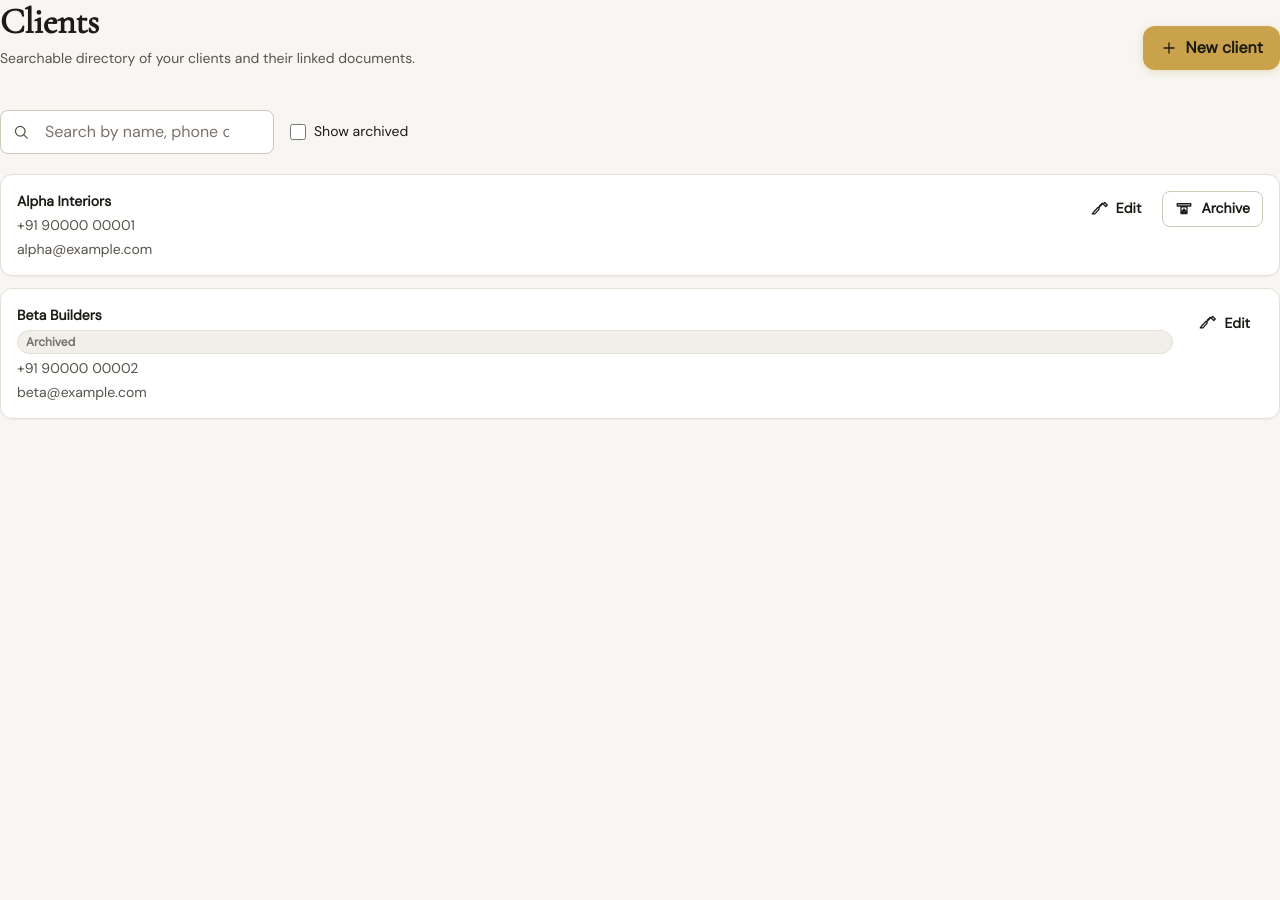
Test: Clients page — row actions › still confirms before archiving
Expected: the link "Alpha Interiors" is shown, left=17, top=192, right=111, bottom=210
Step 1. Click the button "Archive" → (1213, 209), box left=1162, top=191, right=1263, bottom=227
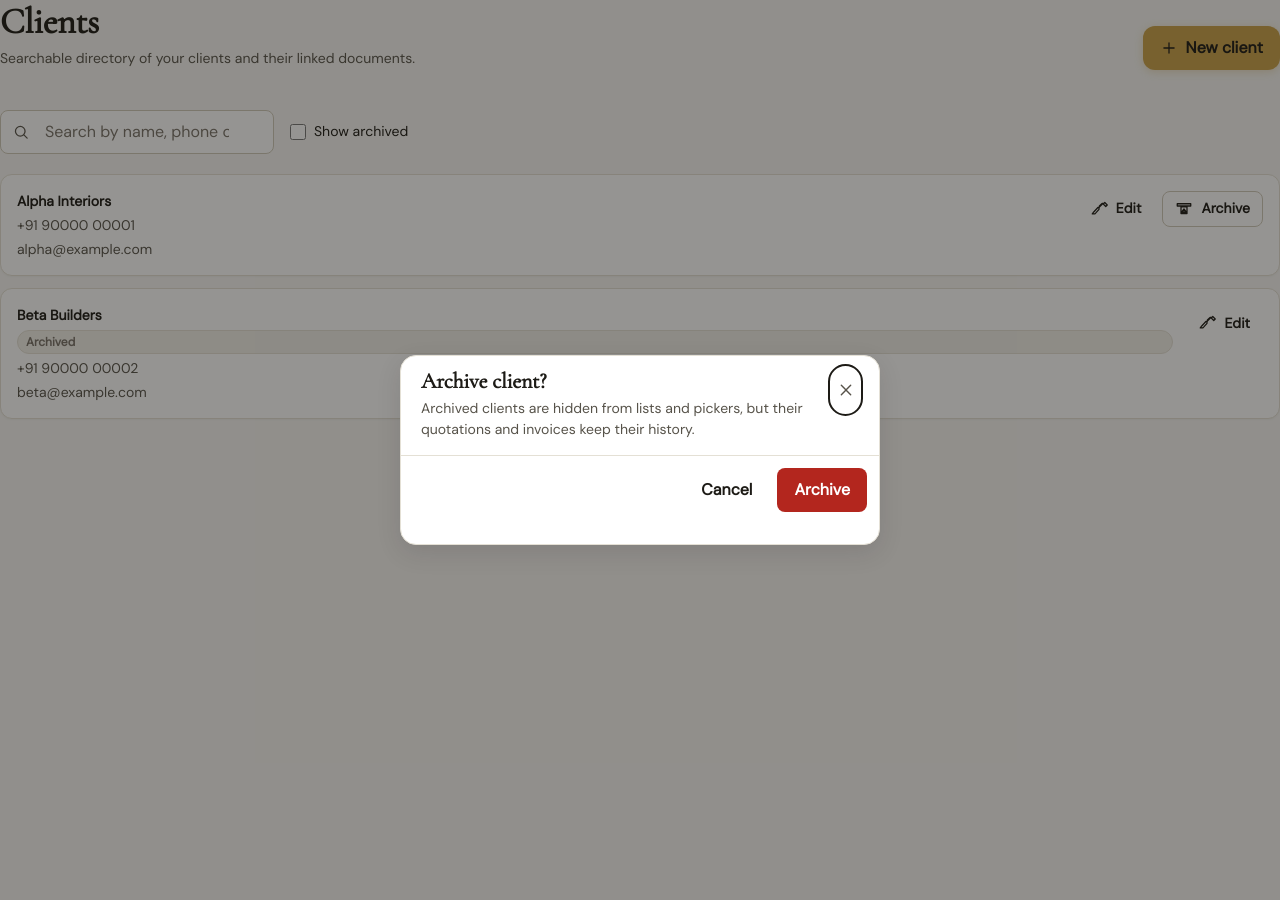
Expected: the heading "Archive client?" is shown, left=421, top=368, right=546, bottom=394
